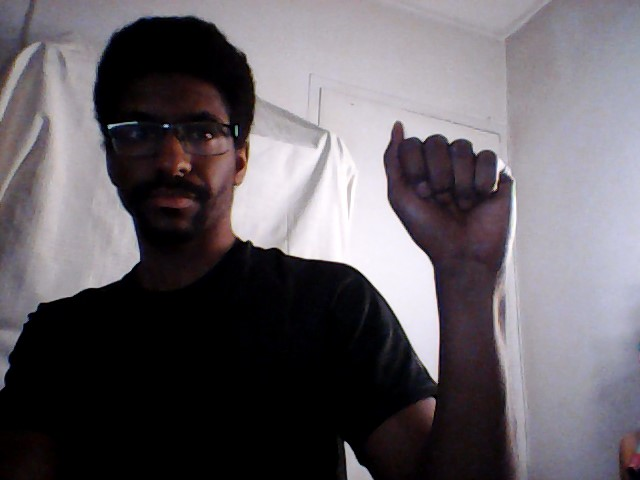a: (382, 118, 520, 271)
